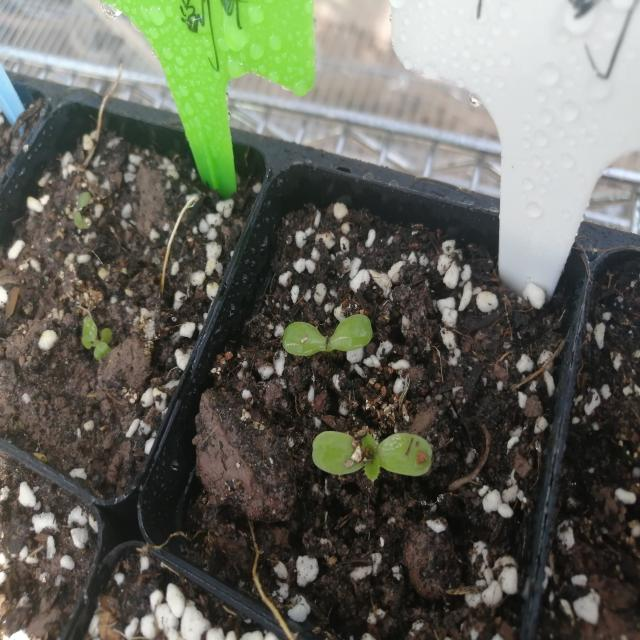field_thistle: (309, 416, 455, 503), (266, 270, 378, 382)
